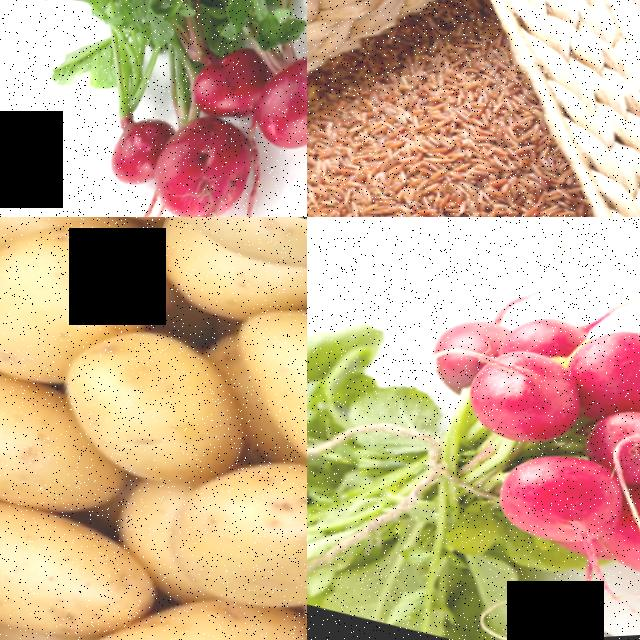potato: (32, 311, 271, 504), (0, 217, 171, 410), (149, 435, 307, 640), (0, 478, 182, 640), (196, 292, 307, 509), (54, 559, 307, 640), (0, 353, 90, 520)
radishes: (307, 253, 640, 640), (34, 0, 307, 217)
red rice: (307, 8, 640, 217)
